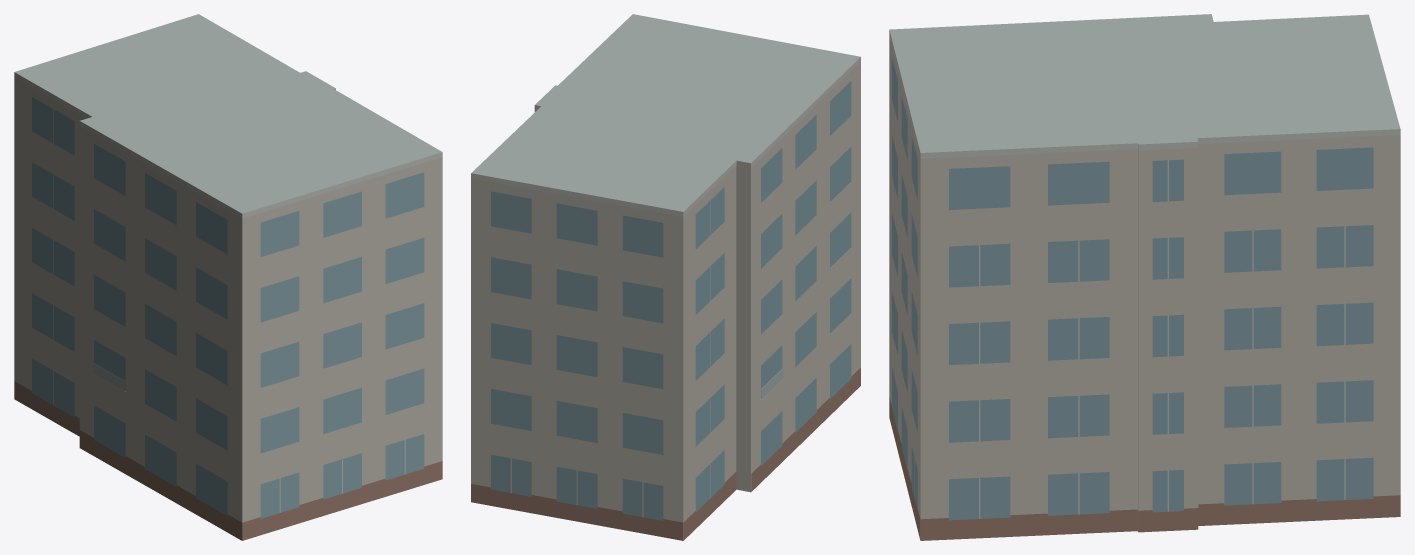
File: survey-upis-32653072.glb
3 renders of one model, left to right at view 1: azimuth 30°, elevation 25°; view 2: azimuth 150°, elevation 25°; view 3: azimuth 270°, elevation 25°, orthographic. The views are drawn at different scales.
Visible parts, largest first — view 1: survey-upis-32653072.tmp; view 2: survey-upis-32653072.tmp; view 3: survey-upis-32653072.tmp.
Boxes of the visible parts, x1=… form: survey-upis-32653072.tmp: x1=14, y1=14, x2=442, y2=540; survey-upis-32653072.tmp: x1=471, y1=14, x2=860, y2=540; survey-upis-32653072.tmp: x1=889, y1=14, x2=1400, y2=540.
Bounding box in the file's own units: 12.12 × 15.76 × 18.83.
